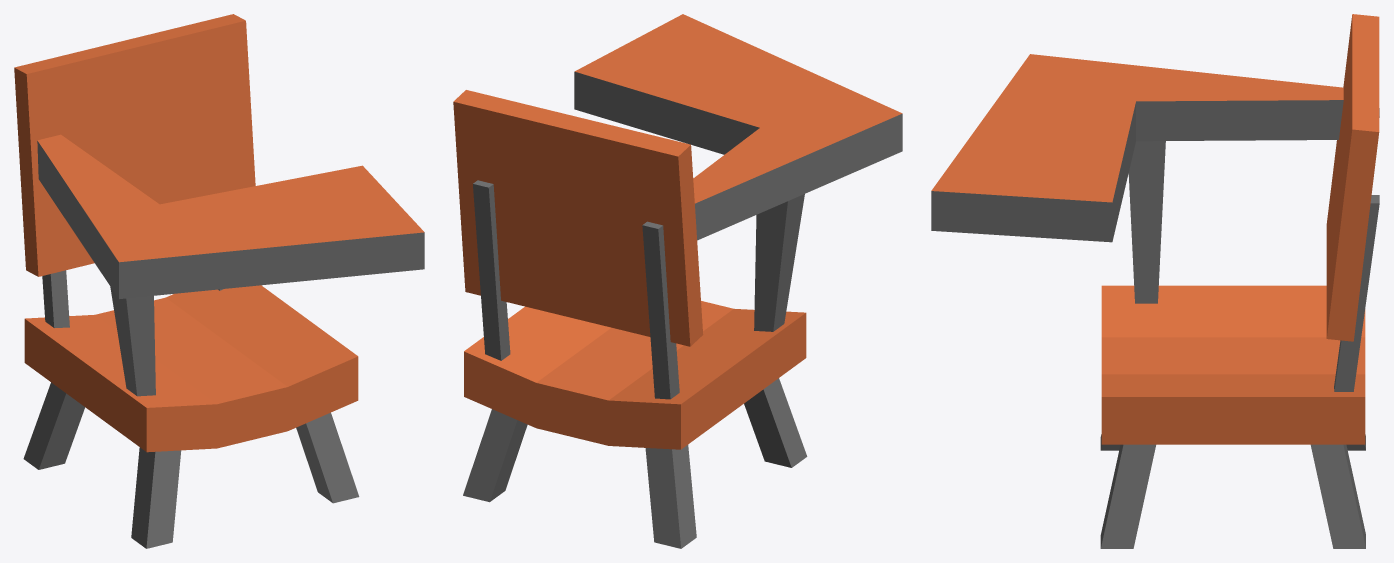
Rendered from silla.glb.
The picture shows the model from 3 angles, left to right: view 1: azimuth 30°, elevation 25°; view 2: azimuth 150°, elevation 25°; view 3: azimuth 270°, elevation 25°; orthographic projection. The views are drawn at different scales.
Visible parts, largest first — view 1: Cube.004, Cube.003, Cube.001, Cube, Cube.002; view 2: Cube.003, Cube.004, Cube.001, Cube, Cube.002; view 3: Cube.004, Cube.001, Cube.003, Cube, Cube.002.
Boxes of the visible parts, <box> form: Cube.004: <box>37,134,424,396</box>; Cube.003: <box>14,14,255,276</box>; Cube.001: <box>24,285,358,452</box>; Cube: <box>23,382,359,548</box>; Cube.002: <box>42,270,223,328</box>; Cube.003: <box>453,90,703,346</box>; Cube.004: <box>574,14,902,331</box>; Cube.001: <box>464,301,806,449</box>; Cube: <box>463,378,807,548</box>; Cube.002: <box>473,180,679,399</box>; Cube.004: <box>931,54,1343,303</box>; Cube.001: <box>1101,285,1365,444</box>; Cube.003: <box>1326,14,1379,341</box>; Cube: <box>1100,434,1365,548</box>; Cube.002: <box>1334,108,1379,391</box>.
Bounding box in the file's own units: 3.02 × 4 × 3.86.
